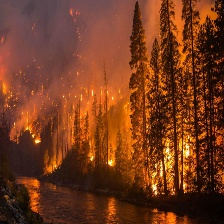fire: (142, 137, 199, 198), (69, 88, 123, 102), (24, 126, 44, 145), (1, 73, 11, 101), (104, 156, 118, 169), (84, 151, 98, 162)
smoke: (84, 7, 136, 77)
